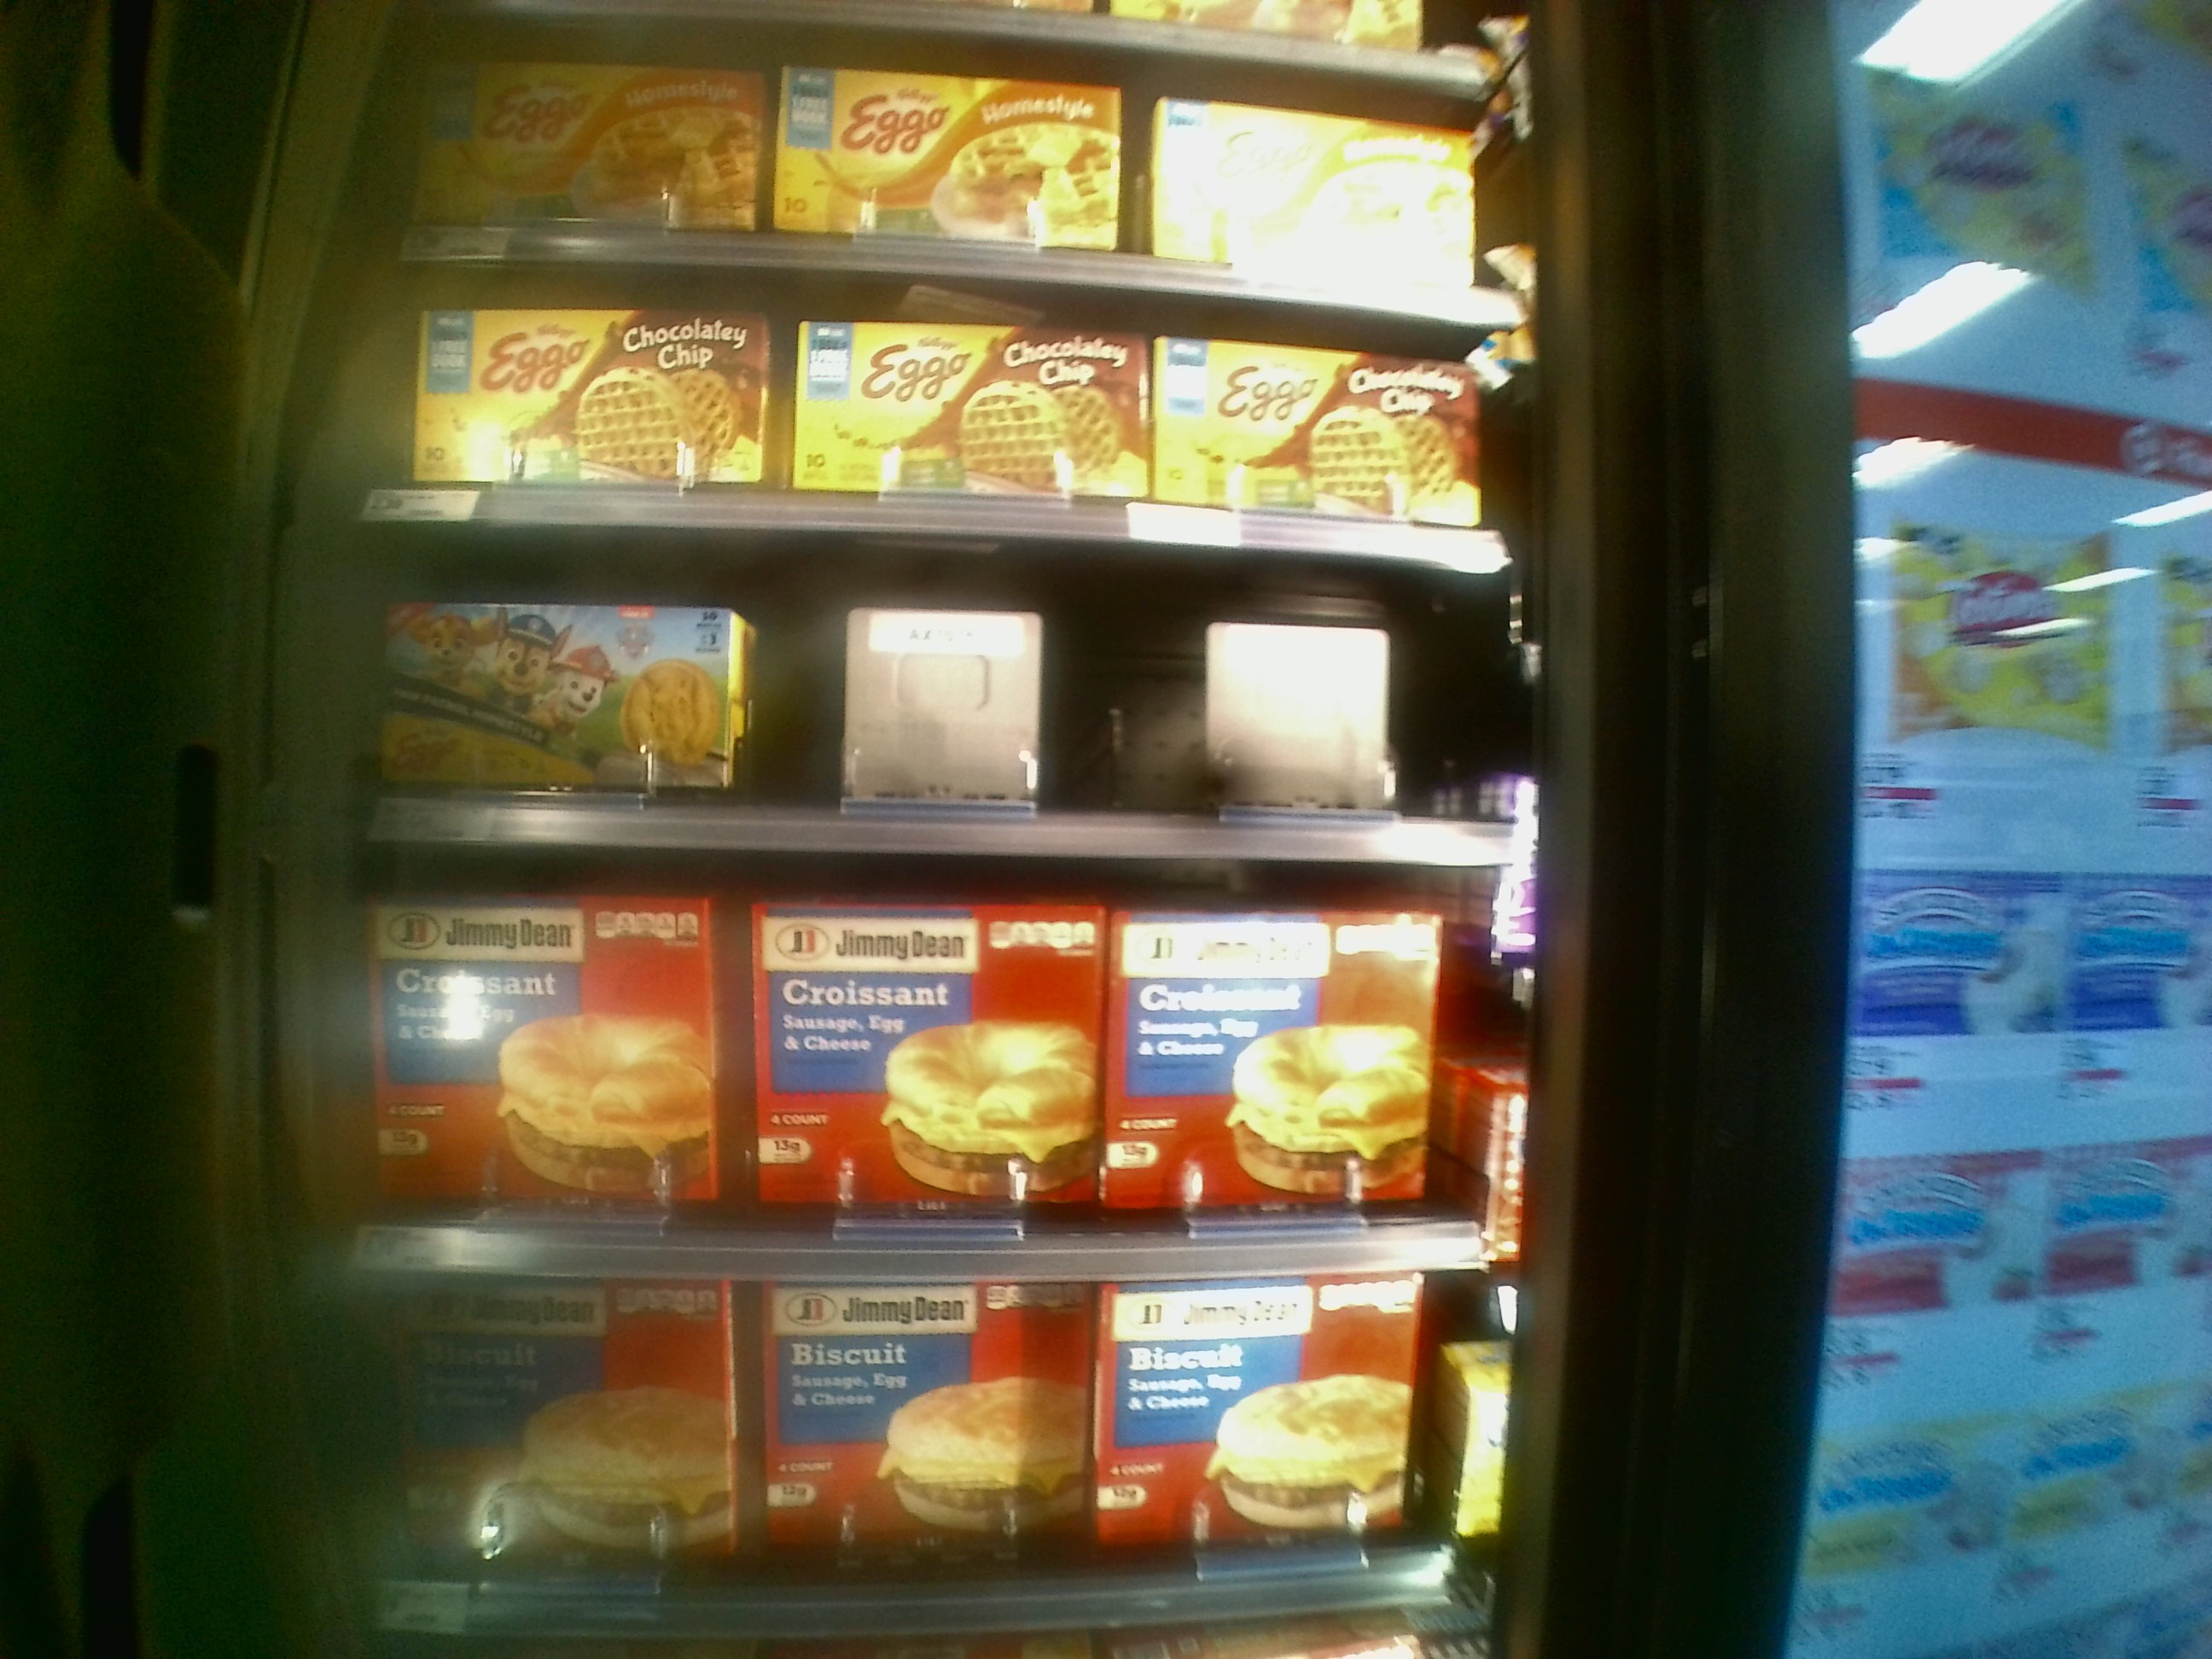shelf: (348, 838, 1505, 1276), (364, 518, 1521, 863), (380, 251, 1505, 563)
